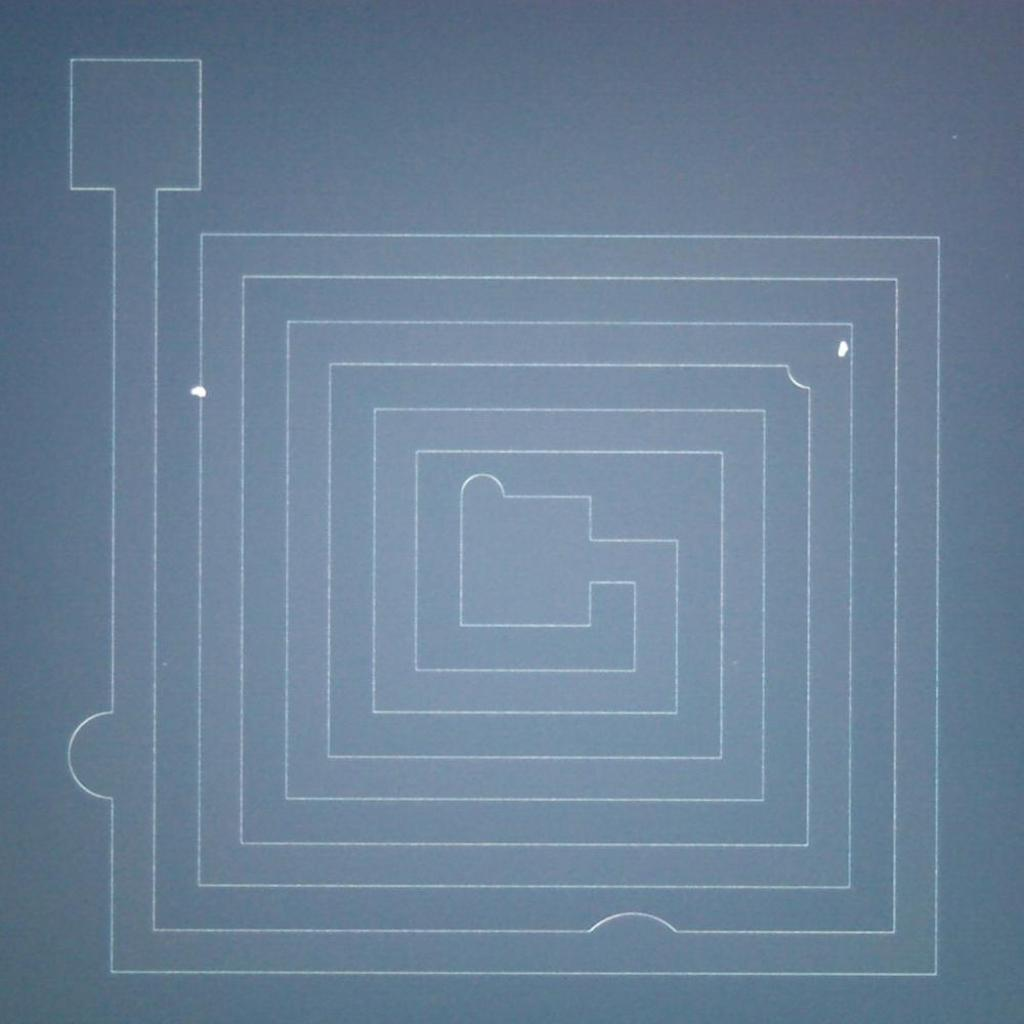dot: (834, 342, 850, 357), (191, 385, 206, 399), (952, 134, 958, 140)
